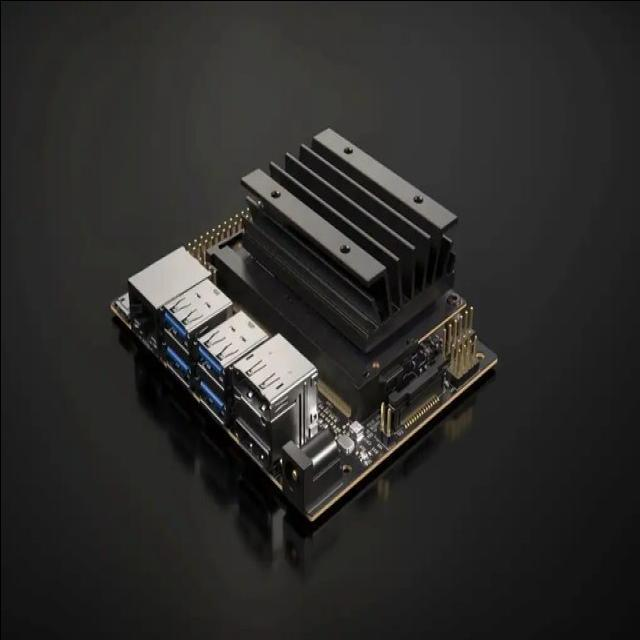Jetson Nano: (109, 127, 498, 521)
